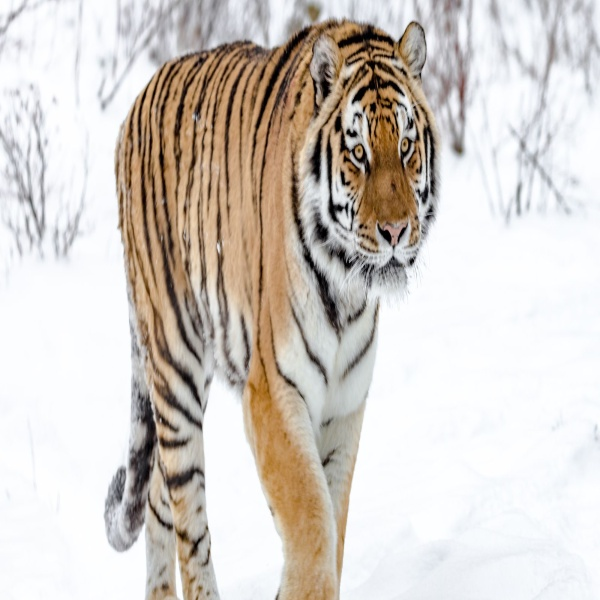Tiger: (99, 13, 447, 600)
